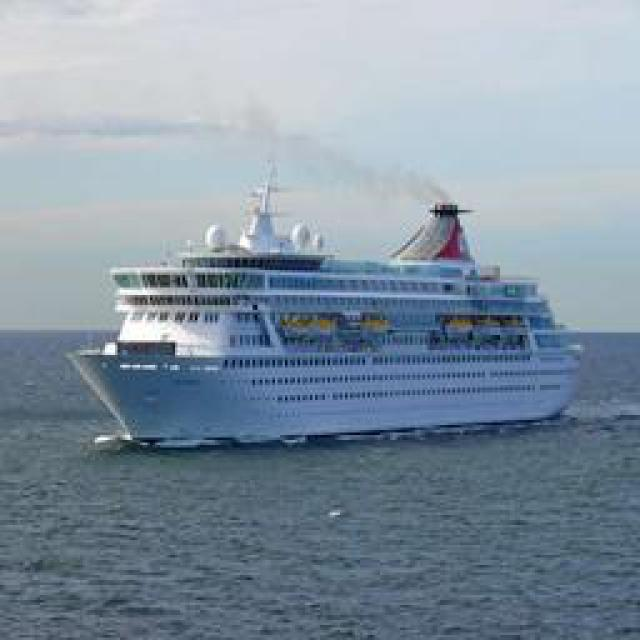Ship: (72, 180, 585, 443)
